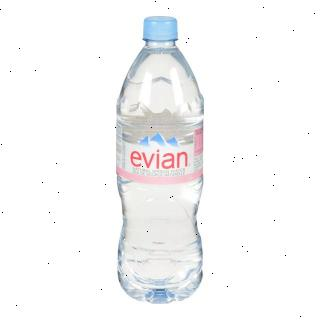Plastic-bottle: (112, 16, 208, 304)
